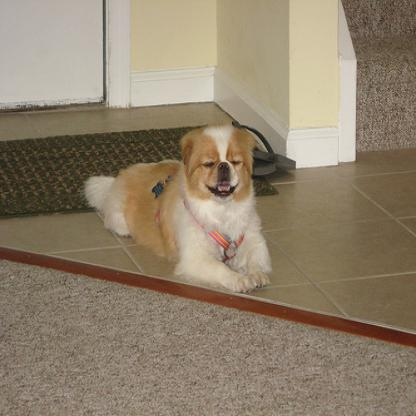dog: (86, 126, 270, 292)
